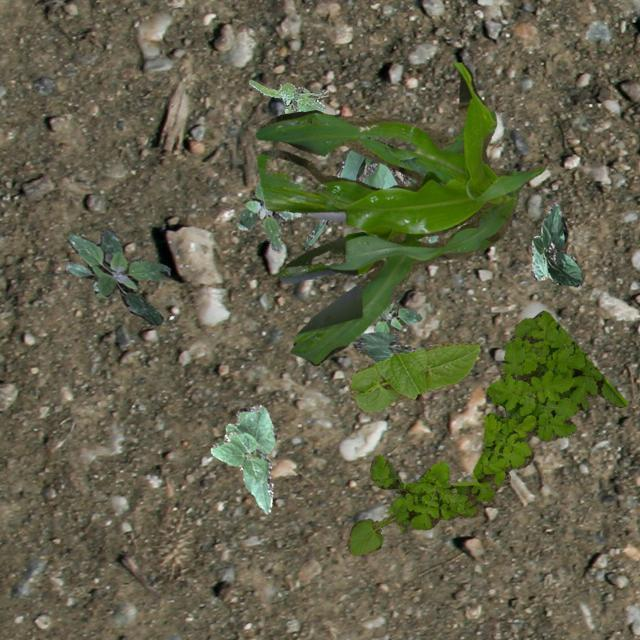crop: (255, 62, 544, 364), (304, 134, 444, 244), (348, 341, 478, 412), (210, 403, 276, 512), (530, 202, 582, 286), (346, 502, 406, 554), (352, 331, 423, 362)
weed: (368, 311, 626, 528), (64, 228, 170, 324), (236, 182, 300, 250), (248, 78, 328, 112), (372, 302, 420, 332)
